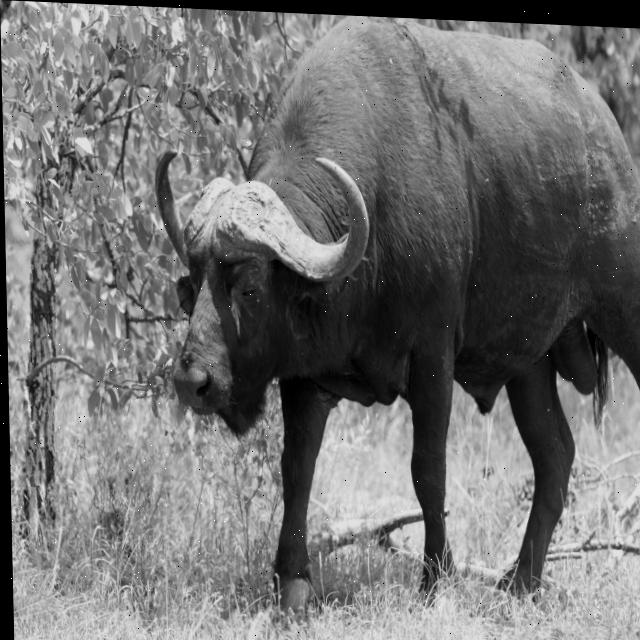Buffalo: (153, 7, 640, 637)
